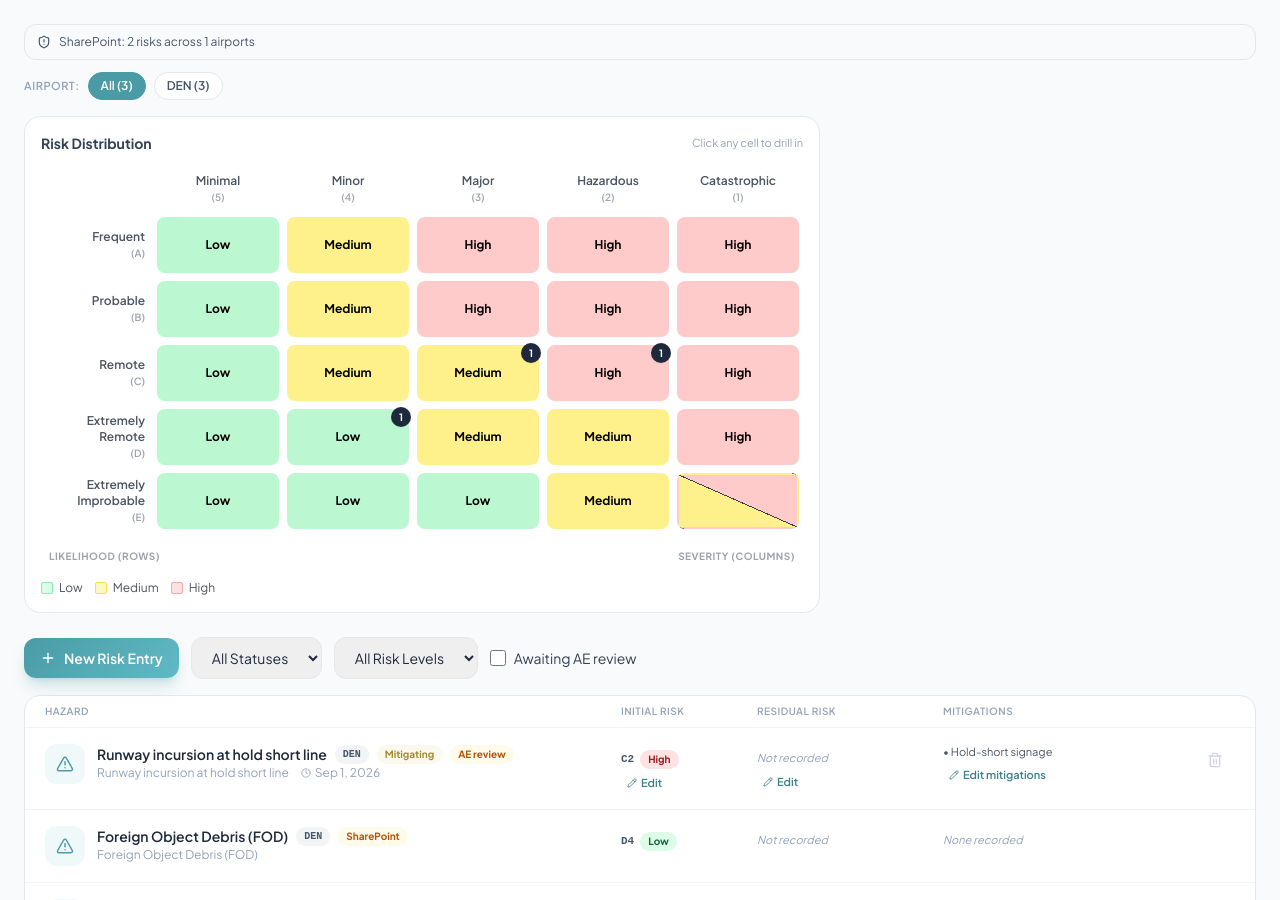
Test: RiskListView delete › keeps the hazard when the confirmation is cancelled
Click the button named "Delete hazard".
click(1215, 760)  # box [1199,744,1231,776]
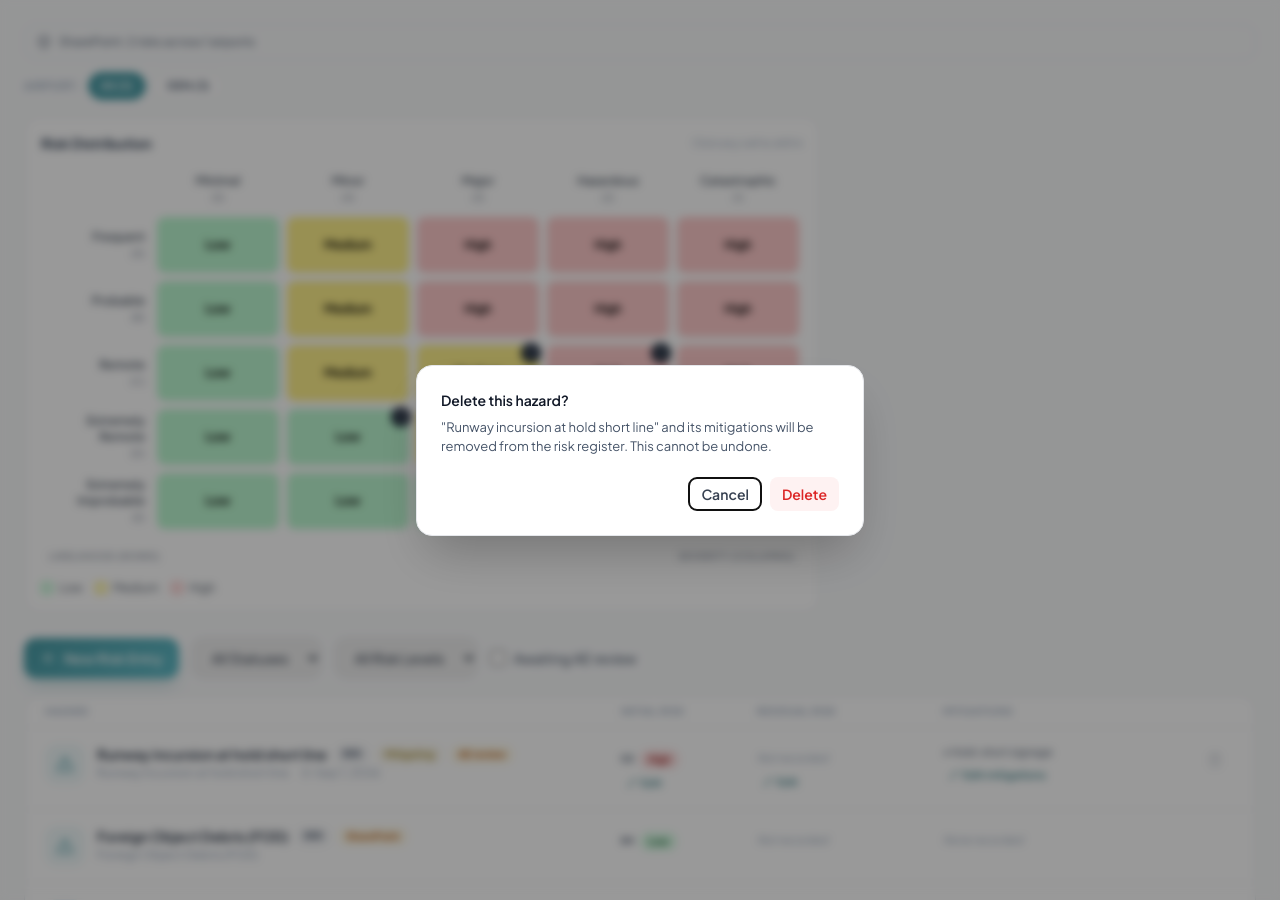
Click the button "Cancel".
click(725, 494)  # box [688,476,762,510]
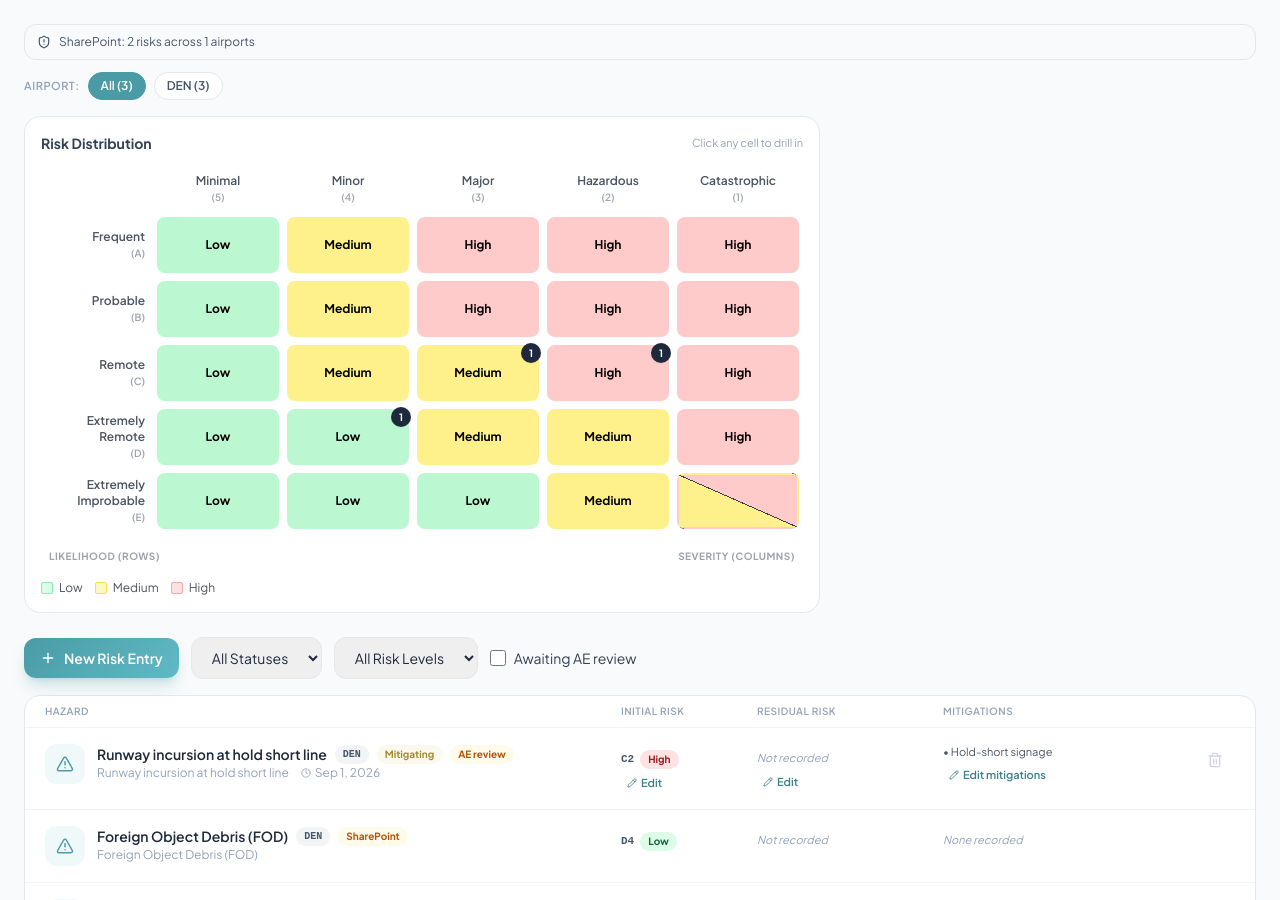
Expected: the dialog is gone
